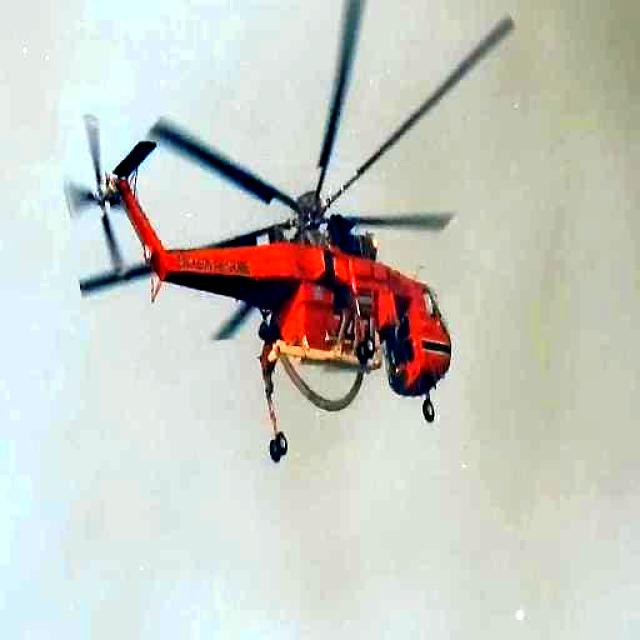drone: (59, 0, 522, 475)
